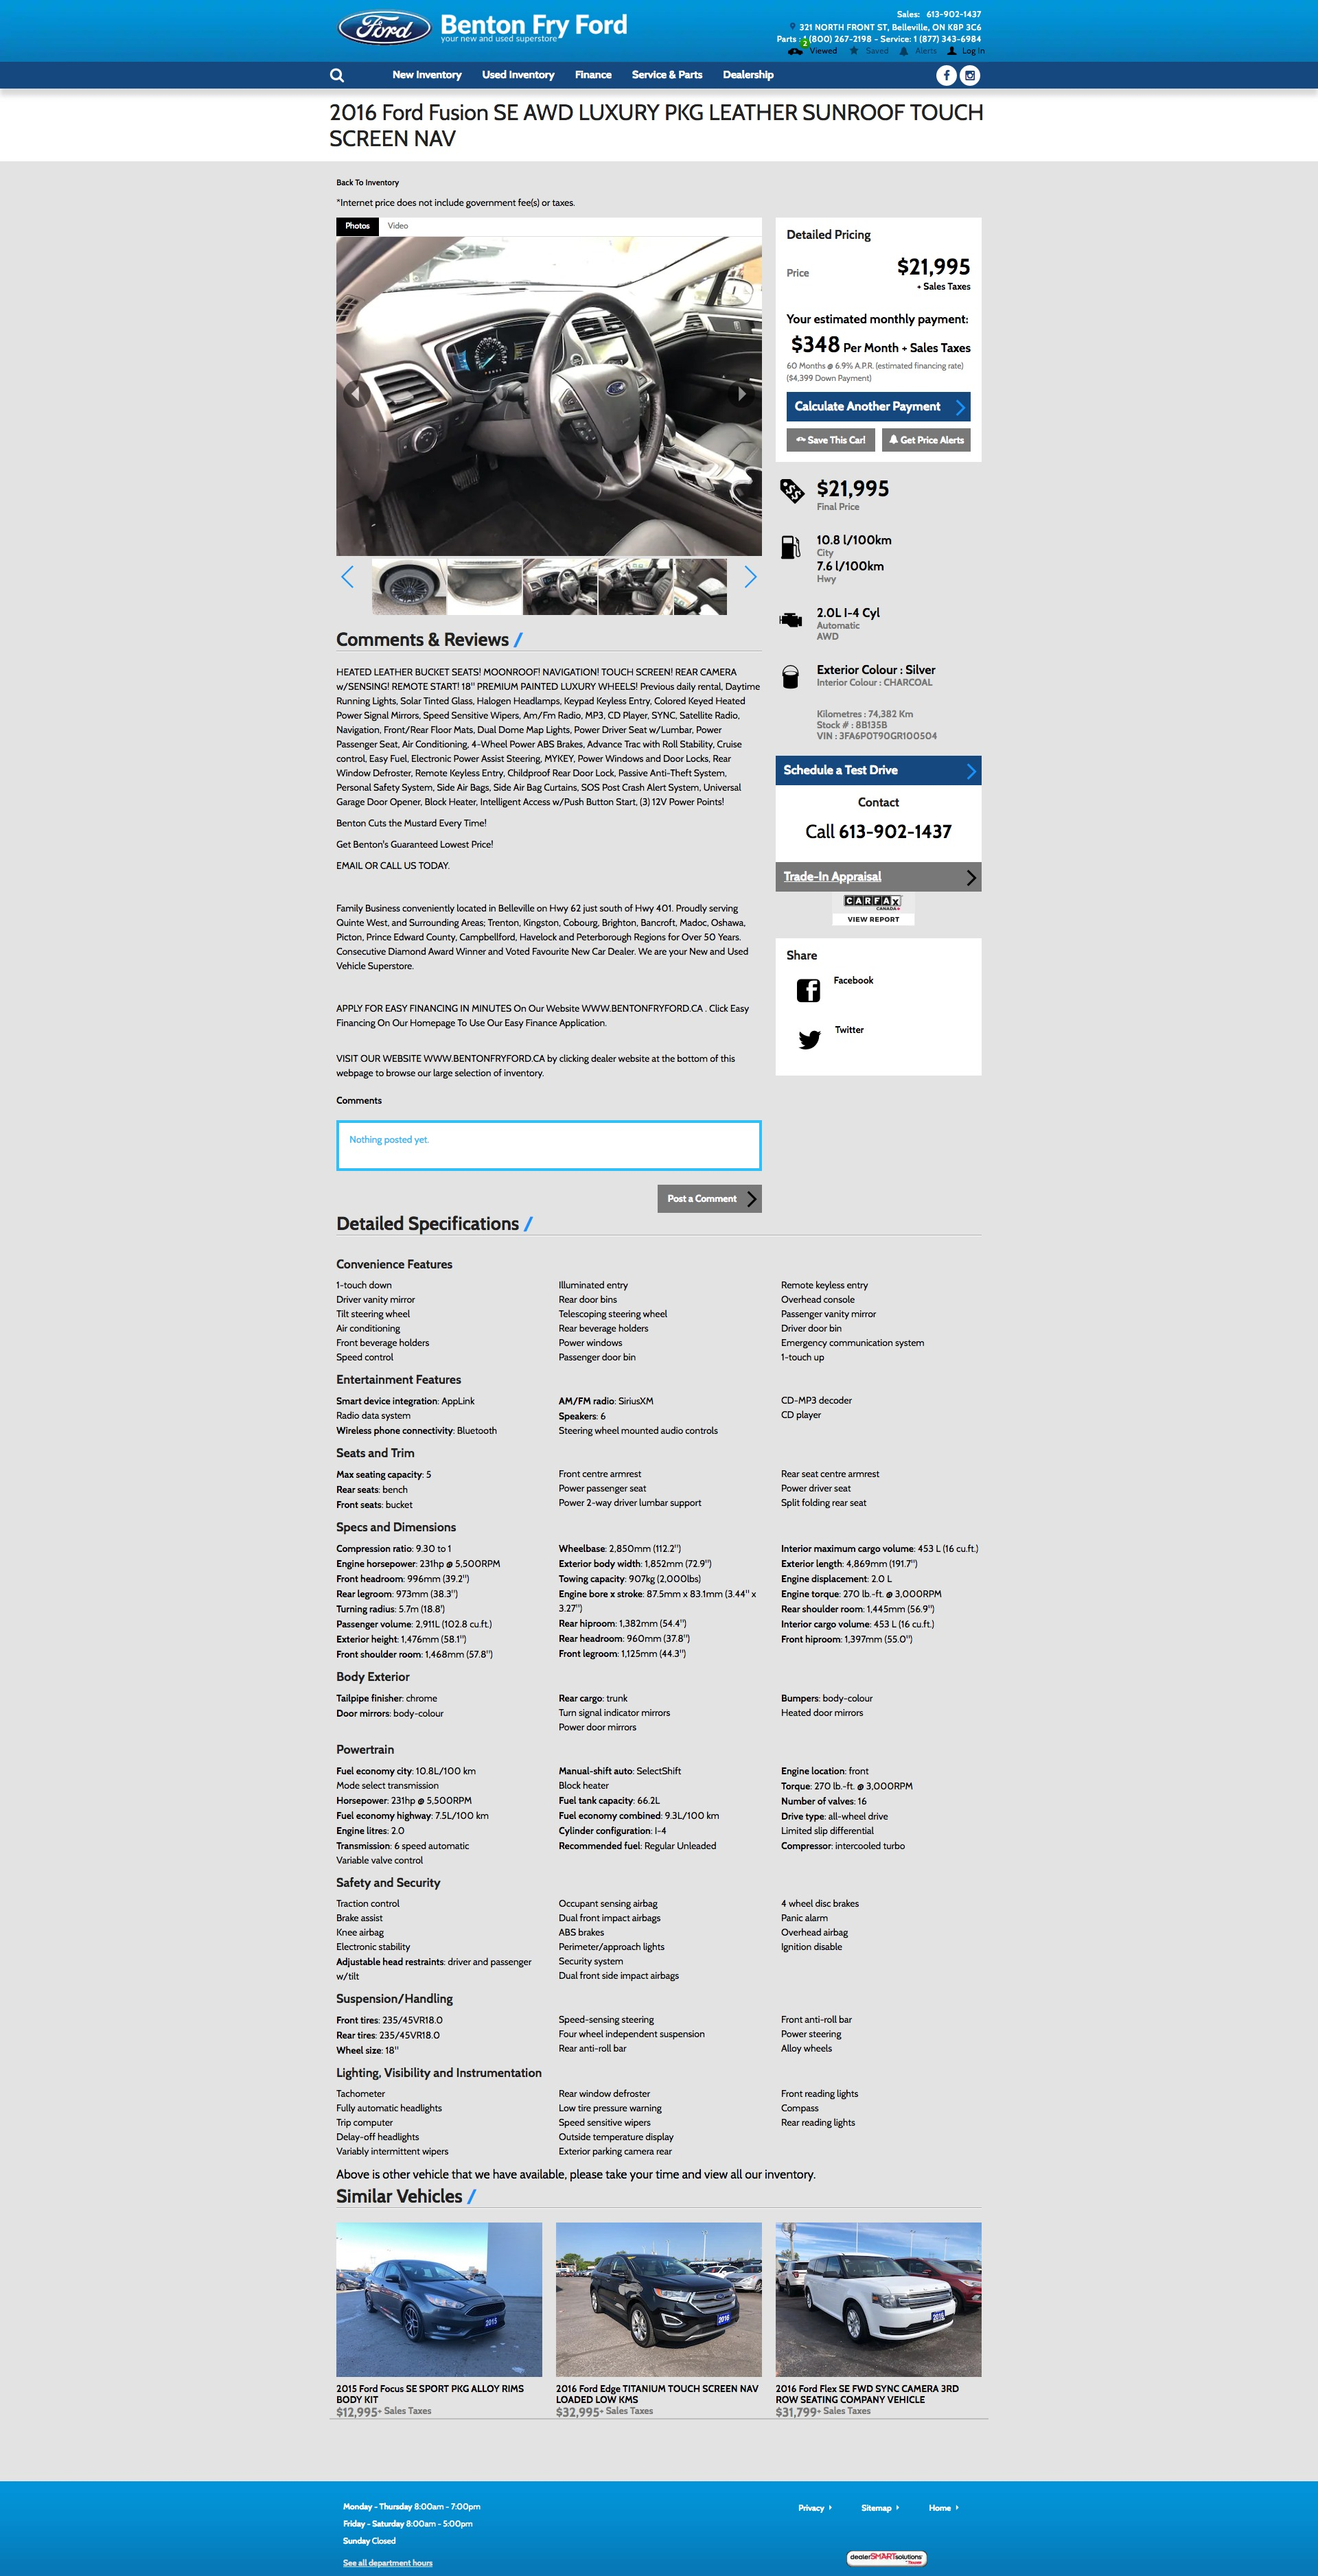car: (743, 565, 758, 590)
